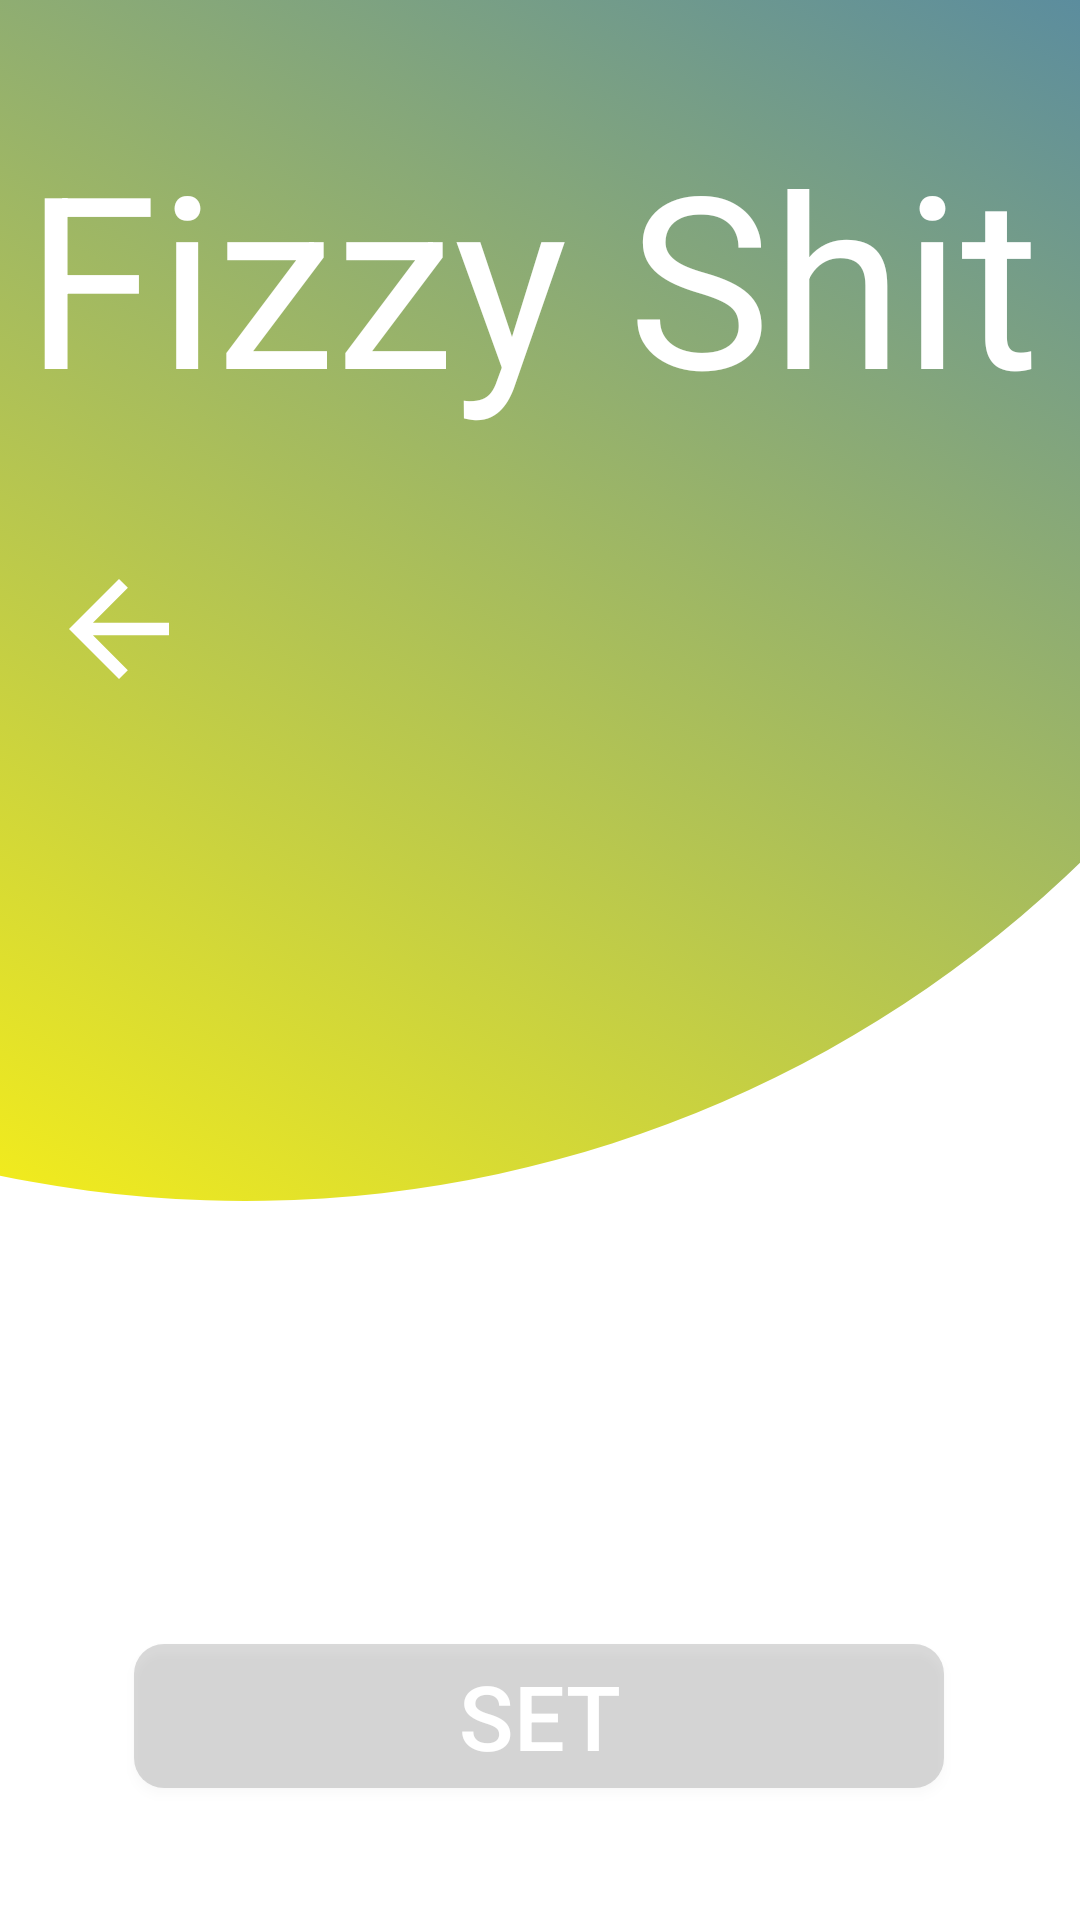

Icons on this 1080px×1920px Android screen, each with its box as box(x1, y1, x2, y2):
arrow: box(69, 579, 169, 679)
